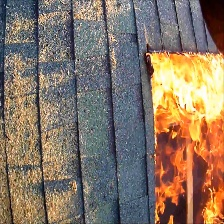fire: (143, 44, 224, 222)
